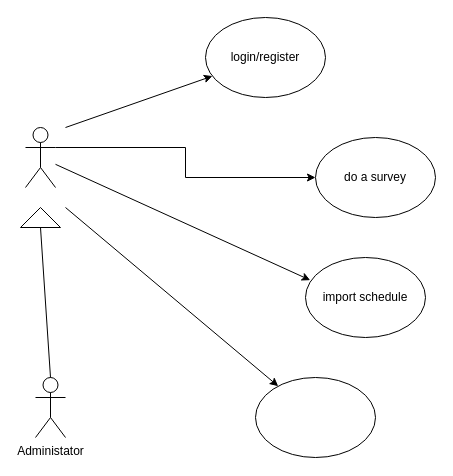
Image size: 453x476. Some labels were removed from this diagram. The centre of each missing label's shape, as x and y in pixels:
Actor: (x=40, y=157)
start learning assistant: (x=315, y=417)
